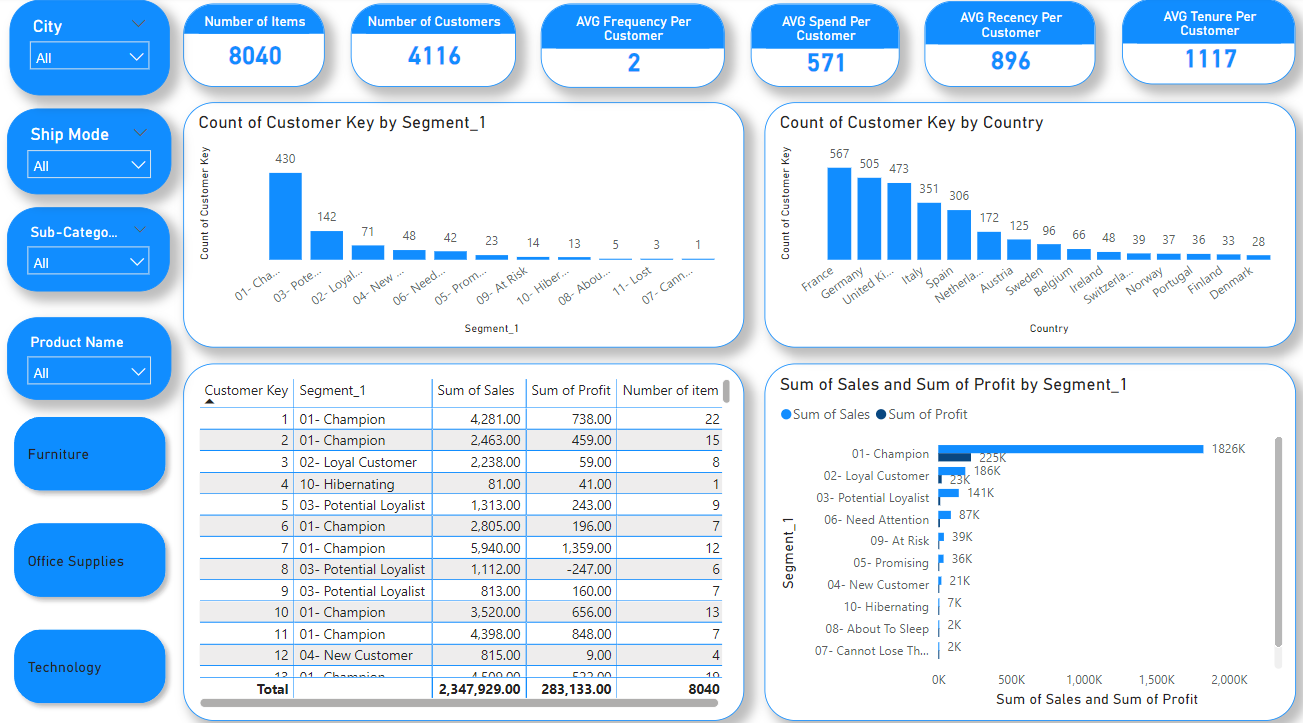

This screenshot's page, from the dashboard's own definition file:
{"tool":"powerbi","page":{"name":"Customer Analysis","canvas":[1280,720],"ordinal":7},"visuals":[{"type":"clusteredBarChart","fields":{"Category":["Dim - Customer behaviour.Segment_1"],"Y":["Sum(Dim - Customer behaviour.Sales)","Sum(Dim - Customer behaviour.Profit)"]},"box":[750.8,359.5,519.7,349.7],"z":0},{"type":"columnChart","fields":{"Category":["Dim - Customer behaviour.Segment_1"],"Y":["CountNonNull(Dim - Customer behaviour.Customer Key)"]},"box":[182.2,103.9,549.1,239.7],"z":1000},{"type":"card","title":"AVG Frequency Per Customer","fields":{"Values":["__Measures.(RFM) - AVG Frequency Per Customer"]},"box":[532.4,6.9,179.8,82.3],"z":2000},{"type":"card","title":"AVG Spend Per Customer","fields":{"Values":["__Measures.(RFM) - AVG Spend Per Customer"]},"box":[737.1,7.3,145.5,81.9],"z":3000},{"type":"card","title":"AVG Recency Per Customer","fields":{"Values":["Avg(Dim - Customer behaviour.Last Seen Since)"]},"box":[907.8,4.9,167.5,84.4],"z":4000},{"type":"card","title":"AVG Tenure Per Customer","fields":{"Values":["Avg(Dim - Date.TenureTillToday(month))"]},"box":[1100.5,2.4,170,84.4],"z":5000},{"type":"card","title":"Number of Customers","fields":{"Values":["__Measures.Number of customer"]},"box":[345.6,7.3,161.4,81.9],"z":6000},{"type":"card","title":"Number of Items","fields":{"Values":["Sum(Dim - Customer behaviour.Number of item )"]},"box":[182.2,7.3,138.2,81.9],"z":7000},{"type":"tableEx","fields":{"Values":["Dim - Customer behaviour.Customer Key","Dim - Customer behaviour.Segment_1","Sum(Dim - Customer behaviour.Sales)","Sum(Dim - Customer behaviour.Profit)","Sum(Dim - Customer behaviour.Number of item )"]},"box":[182.2,359.5,549.1,349.7],"z":8000},{"type":"columnChart","fields":{"Y":["CountNonNull(Dim - Customer behaviour.Customer Key)"],"Category":["Dim - Orders.Country"]},"box":[750.8,103.9,519.7,239.7],"z":9000},{"type":"slicer","fields":{"Values":["Dim - Product.Product Name"]},"box":[9.6,314.2,160.5,81],"z":10000},{"type":"advancedSlicerVisual","fields":{"Values":["Dim - Category.Category"]},"box":[0,395.2,182.5,314.2],"z":11000},{"type":"slicer","fields":{"Values":["Dim - Sub-Category.Sub-Category"]},"box":[9.9,207.2,159.2,82.3],"z":12000},{"type":"slicer","fields":{"Values":["Dim - Ship Mode.Ship Mode"]},"box":[9.9,109.8,160.5,83.7],"z":13000},{"type":"slicer","fields":{"Values":["Dim - City.City"]},"box":[12.6,4.1,156.4,93.3],"z":14000}]}

Visuals, with their boxes in screenshot pixels (x1, y1, x2, y2), scaled from the page's 1280x720 canvas onto the 1303x723 screenshot:
clusteredBarChart - Dim - Customer behaviour.Segment_1 x Sum(Dim - Customer behaviour.Sales): rect(764, 361, 1293, 712)
columnChart - Dim - Customer behaviour.Segment_1 x CountNonNull(Dim - Customer behaviour.Customer Key): rect(185, 104, 744, 345)
"AVG Frequency Per Customer" card: rect(542, 7, 725, 90)
"AVG Spend Per Customer" card: rect(750, 7, 898, 90)
"AVG Recency Per Customer" card: rect(924, 5, 1095, 90)
"AVG Tenure Per Customer" card: rect(1120, 2, 1293, 87)
"Number of Customers" card: rect(352, 7, 516, 90)
"Number of Items" card: rect(185, 7, 326, 90)
tableEx - Dim - Customer behaviour.Customer Key x Dim - Customer behaviour.Segment_1: rect(185, 361, 744, 712)
columnChart - CountNonNull(Dim - Customer behaviour.Customer Key) x Dim - Orders.Country: rect(764, 104, 1293, 345)
slicer - Dim - Product.Product Name: rect(10, 316, 173, 397)
advancedSlicerVisual - Dim - Category.Category: rect(0, 397, 186, 712)
slicer - Dim - Sub-Category.Sub-Category: rect(10, 208, 172, 291)
slicer - Dim - Ship Mode.Ship Mode: rect(10, 110, 173, 194)
slicer - Dim - City.City: rect(13, 4, 172, 98)
